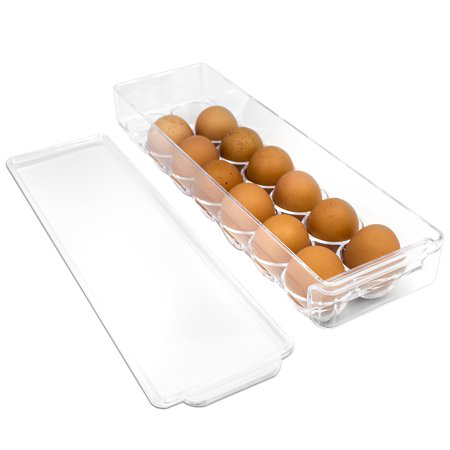egg: (146, 103, 405, 303)
